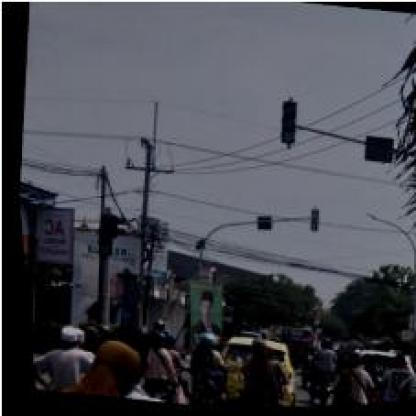green: (86, 209, 112, 256), (271, 100, 297, 146)
